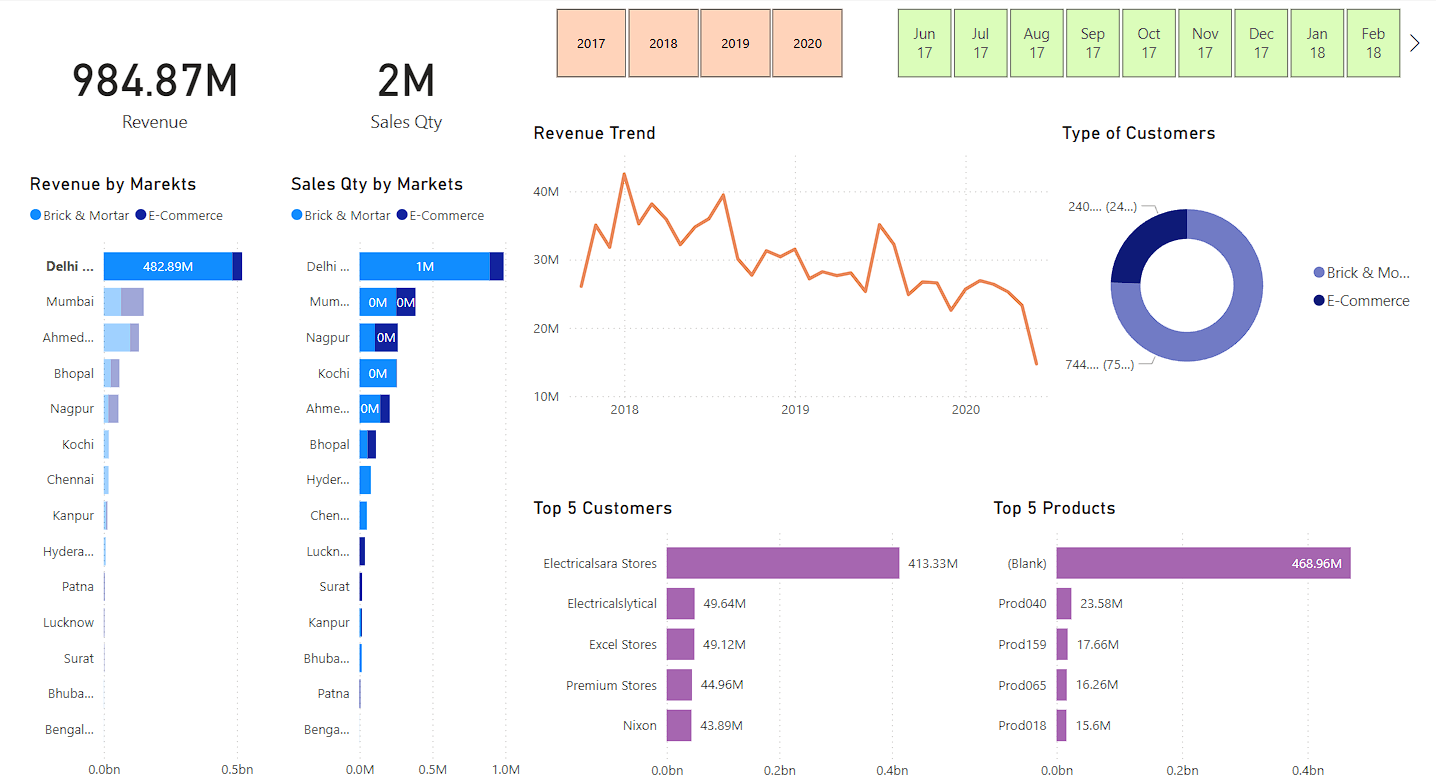

This screenshot's page, from the dashboard's own definition file:
{"tool":"powerbi","page":{"name":"Page 1","canvas":[1280,720],"ordinal":0},"visuals":[{"type":"card","fields":{"Values":["BaseMeasures (2).Revenue"]},"box":[0,0,238.8,156.2],"z":0},{"type":"card","fields":{"Values":["BaseMeasures (2).Sales Qty"]},"box":[238.8,0,221.2,156.2],"z":1000},{"type":"barChart","title":"Revenue by Marekts","fields":{"Y":["BaseMeasures (2).Revenue"],"Category":["sales markets.markets_name"],"Series":["sales customers.customer_type"]},"box":[0,156.2,238.8,563.8],"z":2000},{"type":"barChart","title":"Sales Qty by Markets","fields":{"Y":["BaseMeasures (2).Sales Qty"],"Category":["sales markets.markets_name"],"Series":["sales customers.customer_type"]},"box":[238.8,156.2,220,563.8],"z":3000},{"type":"slicer","fields":{"Values":["sales date.year"]},"box":[460,0,311.2,76.2],"z":4000},{"type":"slicer","fields":{"Values":["sales date.cy_date"]},"box":[771.2,0,508.8,76.2],"z":5000},{"type":"barChart","title":"Top 5 Customers","fields":{"Y":["BaseMeasures (2).Revenue"],"Category":["sales customers.custmer_name"]},"box":[460,451.2,420,268.8],"z":6000},{"type":"barChart","title":"Top 5 Products","fields":{"Y":["BaseMeasures (2).Revenue"],"Category":["sales products.product_code"]},"box":[880,451.2,400,268.8],"z":7000},{"type":"lineChart","title":"Revenue Trend","fields":{"Y":["BaseMeasures (2).Revenue"],"Category":["sales date.cy_date.Variation.Date Hierarchy.Year","sales date.cy_date.Variation.Date Hierarchy.Quarter","sales date.cy_date.Variation.Date Hierarchy.Month","sales date.cy_date.Variation.Date Hierarchy.Day"]},"box":[460,110,482.5,281.2],"z":8000},{"type":"donutChart","title":"Type of Customers","fields":{"Category":["sales customers.customer_type"],"Y":["BaseMeasures (2).Revenue"]},"box":[942.5,110,337.5,281.2],"z":9000}]}

Visuals, with their boxes on the page's 1280x720 design canvas (x1, y1, x2, y2). These are canvas units, not pixel positions in the 1436x780 screenshot, which may show the page scaled, cropped or inside an application window:
card - BaseMeasures (2).Revenue: <box>0,0,239,156</box>
card - BaseMeasures (2).Sales Qty: <box>239,0,460,156</box>
"Revenue by Marekts" barChart: <box>0,156,239,720</box>
"Sales Qty by Markets" barChart: <box>239,156,459,720</box>
slicer - sales date.year: <box>460,0,771,76</box>
slicer - sales date.cy_date: <box>771,0,1280,76</box>
"Top 5 Customers" barChart: <box>460,451,880,720</box>
"Top 5 Products" barChart: <box>880,451,1280,720</box>
"Revenue Trend" lineChart: <box>460,110,942,391</box>
"Type of Customers" donutChart: <box>942,110,1280,391</box>
